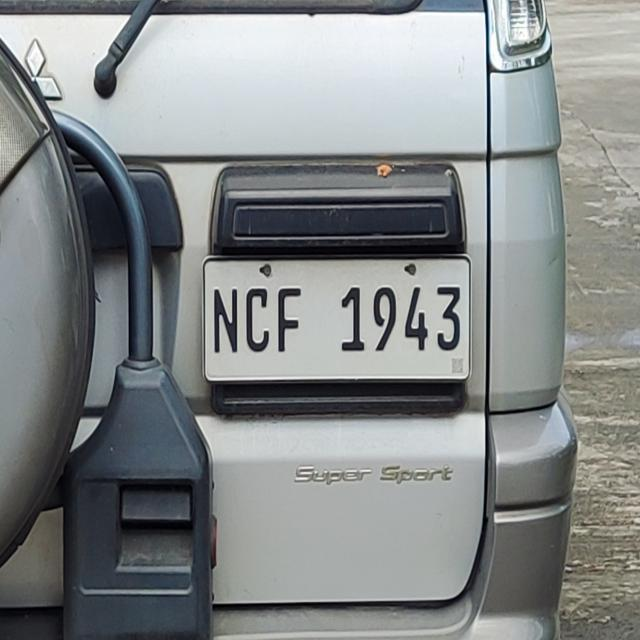LicensePlate: (195, 251, 477, 387)
